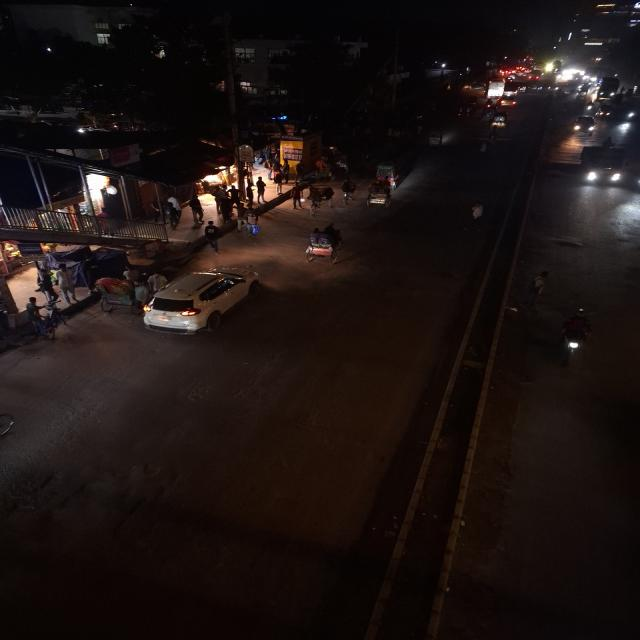car: (137, 261, 267, 337), (568, 114, 598, 138), (497, 95, 520, 108)
cng: (489, 110, 511, 129)
motorcycle: (554, 305, 599, 369)
pedestrian: (524, 268, 557, 312), (201, 223, 226, 255), (212, 188, 236, 220), (161, 195, 183, 229), (186, 195, 206, 223)
rickshaw: (90, 272, 169, 313), (300, 222, 348, 266), (306, 183, 338, 214), (362, 181, 394, 210), (423, 127, 454, 149)
truck: (576, 143, 630, 188)
